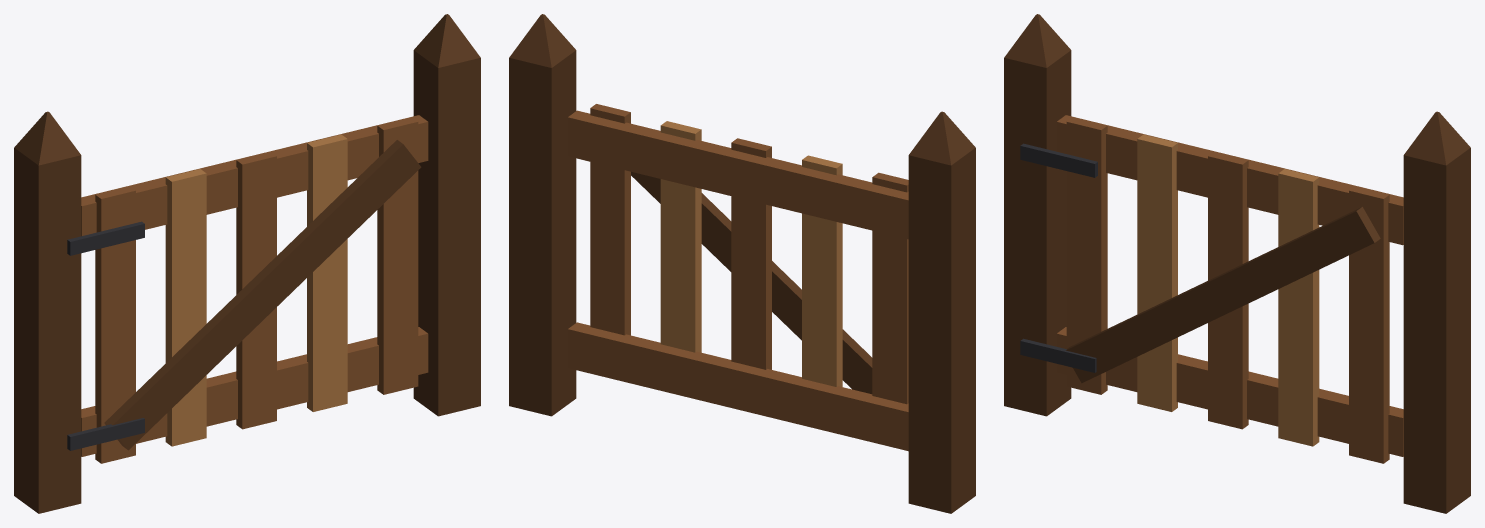
The model's file is Fence_Gate.fbx.
The picture shows the model from 3 angles, left to right: view 1: azimuth 30°, elevation 25°; view 2: azimuth 150°, elevation 25°; view 3: azimuth 330°, elevation 25°; orthographic projection.
Parts seen in each view (by area): view 1: Fence_Gate; view 2: Fence_Gate; view 3: Fence_Gate.
Part boxes in pixels (x1,y1,x2,y2): Fence_Gate: (14, 14, 480, 513); Fence_Gate: (509, 14, 975, 513); Fence_Gate: (1004, 14, 1470, 513).
Size of the model in its own units: 1.66 by 1.39 by 0.21.
